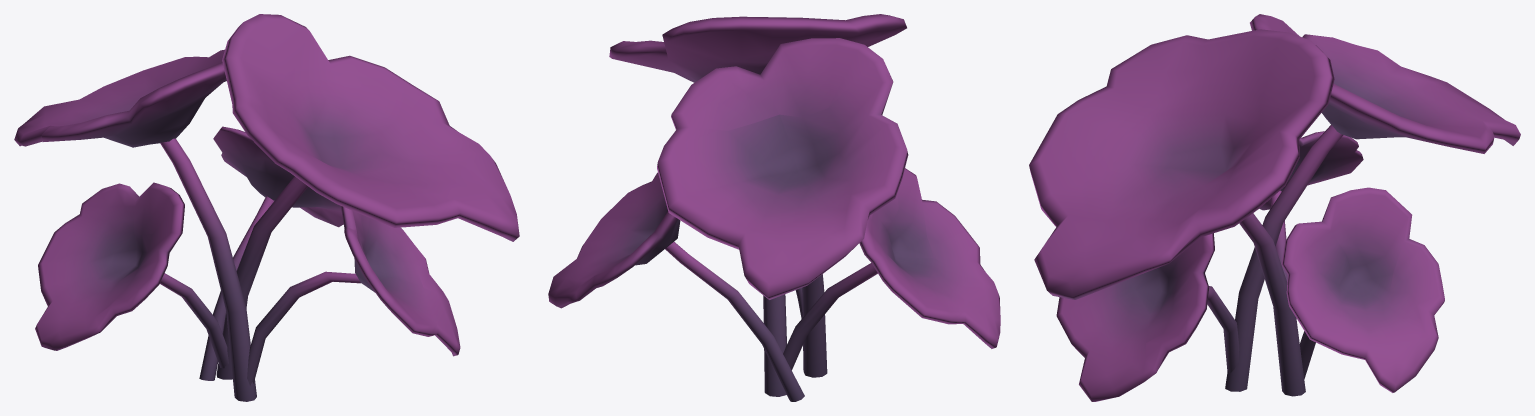
File: Plants_003.fbx
The picture shows the model from 3 angles, left to right: view 1: azimuth 30°, elevation 25°; view 2: azimuth 150°, elevation 25°; view 3: azimuth 270°, elevation 25°; orthographic projection. The views are drawn at different scales.
Parts seen in each view (by area): view 1: Plants.003; view 2: Plants.003; view 3: Plants.003.
Boxes of the visible parts, x1,y1,x2,y2 form: Plants.003: (14, 14, 519, 401); Plants.003: (548, 14, 1000, 401); Plants.003: (1029, 14, 1520, 401).
Size of the model in its own units: 565 by 470 by 574.
